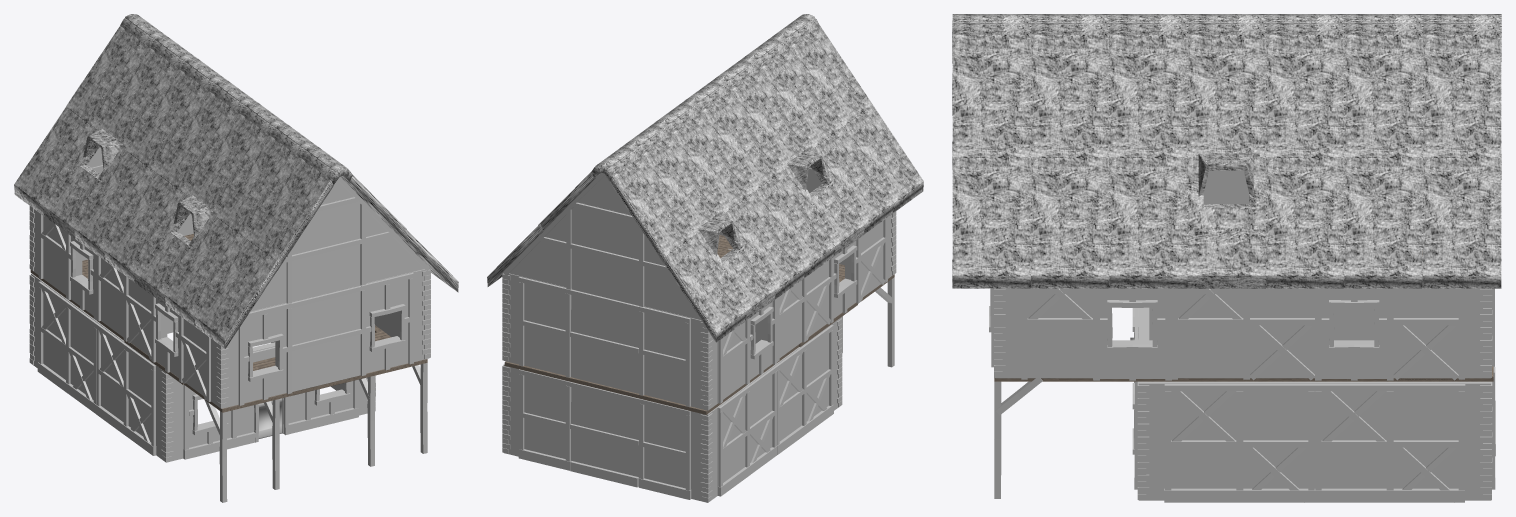
File: house_3.fbx
3 renders of one model, left to right at view 1: azimuth 30°, elevation 25°; view 2: azimuth 150°, elevation 25°; view 3: azimuth 270°, elevation 25°, orthographic. The views are drawn at different scales.
Visible parts, largest first — view 1: puerta_1.004, techo_paja_1x3.021, piso_4x4.001; view 2: puerta_1.004, techo_paja_1x3.021, piso_4x4.001; view 3: techo_paja_1x3.021, puerta_1.004, piso_4x4.001.
Part boxes in pixels (x1,y1,x2,y2): puerta_1.004: (29, 147, 430, 502); techo_paja_1x3.021: (14, 14, 458, 348); piso_4x4.001: (30, 233, 427, 412); puerta_1.004: (502, 166, 896, 502); techo_paja_1x3.021: (487, 14, 923, 342); piso_4x4.001: (504, 235, 894, 414); techo_paja_1x3.021: (952, 14, 1501, 288); puerta_1.004: (989, 130, 1495, 502); piso_4x4.001: (994, 250, 1493, 381).
Size of the model in its own units: 1347 by 1768 by 2100.
